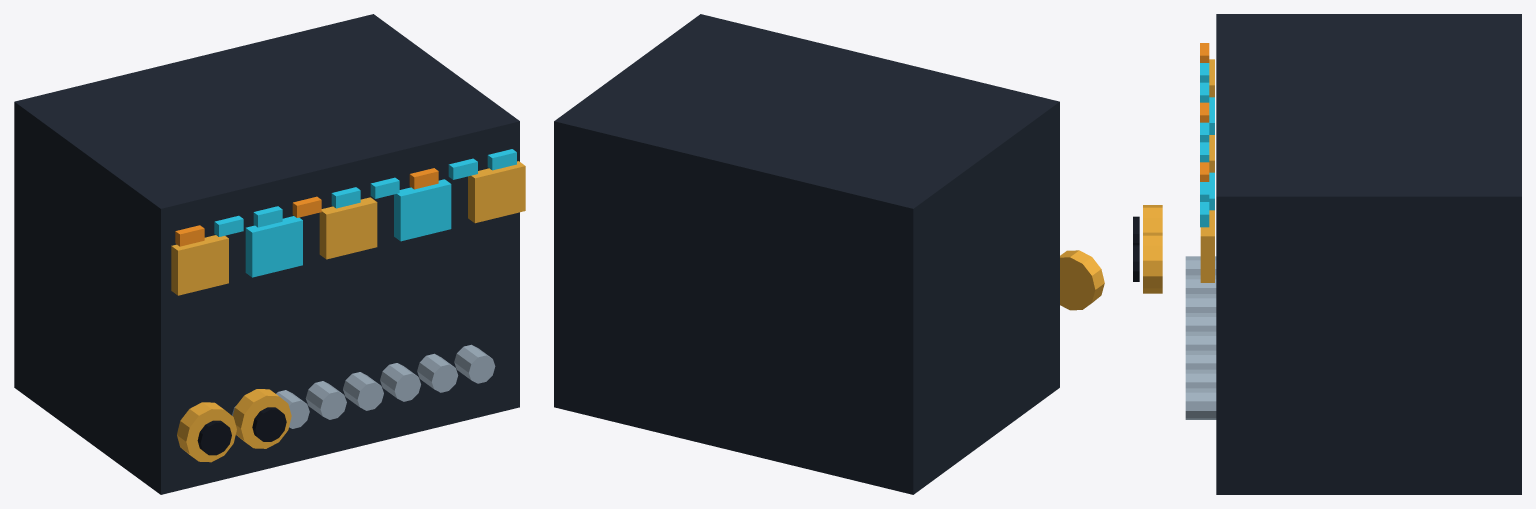
Rendered from 36_L86_FlexiblePayloadModalSensor.fbx.
The picture shows the model from 3 angles, left to right: view 1: azimuth 30°, elevation 25°; view 2: azimuth 150°, elevation 25°; view 3: azimuth 270°, elevation 25°; orthographic projection. The views are drawn at different scales.
Visible parts, largest first — view 1: L86_FlexiblePayloadModalSensor, L86_FlexiblePayloadModalSensor_Part_0002, L86_FlexiblePayloadModalSensor_Part_0001, L86_FlexiblePayloadModalSensor_Part_0005, L86_FlexiblePayloadModalSensor_Part_0007, L86_FlexiblePayloadModalSensor_Part_0004, L86_FlexiblePayloadModalSensor_Part_0006, L86_FlexiblePayloadModalSensor_Part_0008; view 2: L86_FlexiblePayloadModalSensor, L86_FlexiblePayloadModalSensor_Part_0005; view 3: L86_FlexiblePayloadModalSensor, L86_FlexiblePayloadModalSensor_Part_0002, L86_FlexiblePayloadModalSensor_Part_0001, L86_FlexiblePayloadModalSensor_Part_0007, L86_FlexiblePayloadModalSensor_Part_0004, L86_FlexiblePayloadModalSensor_Part_0005.
Part boxes in pixels (x1,y1,x2,y2): L86_FlexiblePayloadModalSensor: (14,14,519,494); L86_FlexiblePayloadModalSensor_Part_0002: (214,149,516,277); L86_FlexiblePayloadModalSensor_Part_0001: (171,161,525,295); L86_FlexiblePayloadModalSensor_Part_0005: (177,402,236,462); L86_FlexiblePayloadModalSensor_Part_0007: (233,389,291,448); L86_FlexiblePayloadModalSensor_Part_0004: (175,168,438,246); L86_FlexiblePayloadModalSensor_Part_0006: (197,420,231,455); L86_FlexiblePayloadModalSensor_Part_0008: (252,407,286,441); L86_FlexiblePayloadModalSensor: (554,14,1059,494); L86_FlexiblePayloadModalSensor_Part_0005: (1060,250,1104,310); L86_FlexiblePayloadModalSensor: (1185,14,1521,494); L86_FlexiblePayloadModalSensor_Part_0002: (1200,63,1214,227); L86_FlexiblePayloadModalSensor_Part_0001: (1200,59,1214,282); L86_FlexiblePayloadModalSensor_Part_0007: (1143,233,1162,293); L86_FlexiblePayloadModalSensor_Part_0004: (1200,43,1209,181); L86_FlexiblePayloadModalSensor_Part_0005: (1143,205,1162,232).
Bounding box in the file's own units: 94.5 × 70 × 82.7.
